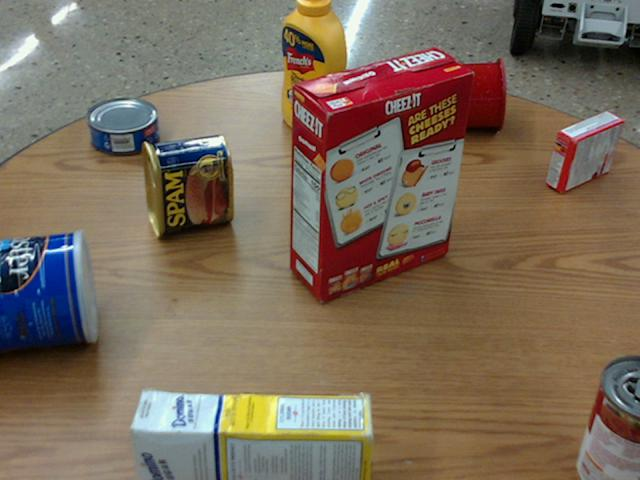cracker_box: (289, 46, 471, 300)
gelatin_box: (546, 112, 623, 193)
master_chef_can: (0, 229, 98, 351)
mug: (434, 56, 505, 129)
mustard_bottle: (280, 0, 345, 139)
potted_meat_can: (140, 132, 231, 235)
sugar_box: (126, 391, 372, 479)
tomato_soup_can: (576, 352, 639, 479)
tuna_fish_can: (87, 96, 158, 153)
